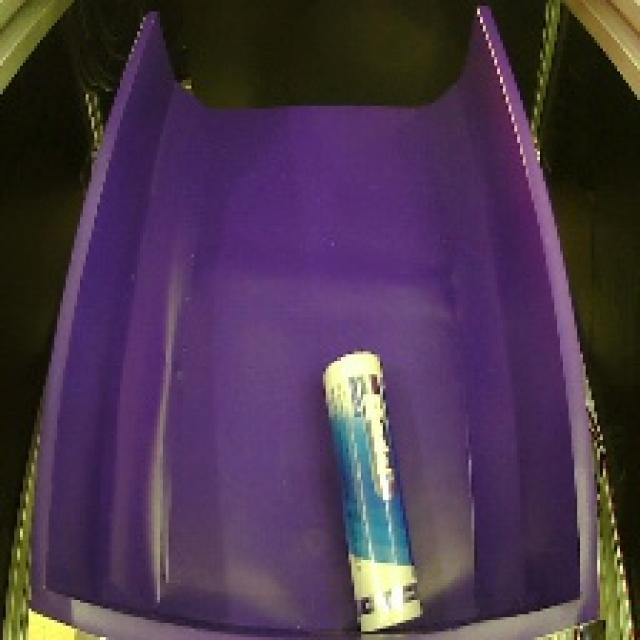battery: (309, 339, 433, 638)
